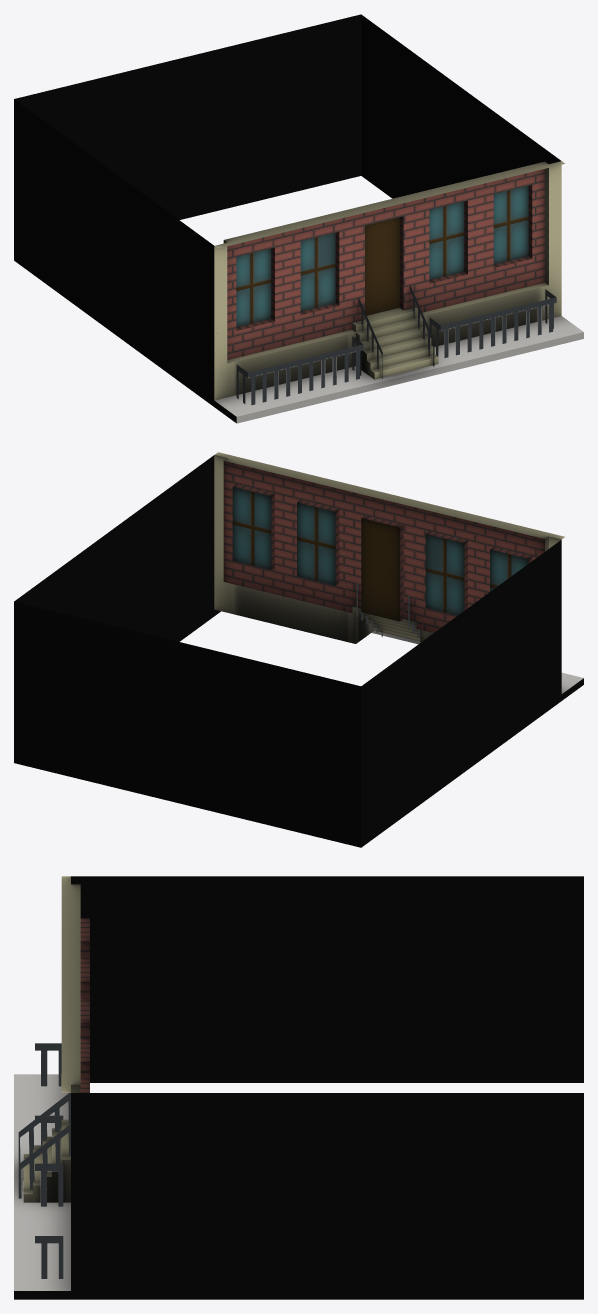
Rendered from building middle ground.fbx.
3 views of the same model, one above another, from view 1: azimuth 30°, elevation 25°; view 2: azimuth 150°, elevation 25°; view 3: azimuth 270°, elevation 25° (orthographic). The views are drawn at different scales.
Visible parts, largest first — view 1: Building Middle Ground; view 2: Building Middle Ground; view 3: Building Middle Ground.
Boxes of the visible parts, x1=… form: Building Middle Ground: x1=14, y1=14, x2=583, y2=423; Building Middle Ground: x1=14, y1=452, x2=583, y2=847; Building Middle Ground: x1=14, y1=876, x2=583, y2=1299.
Size of the model in its own units: 540 by 240 by 600.
